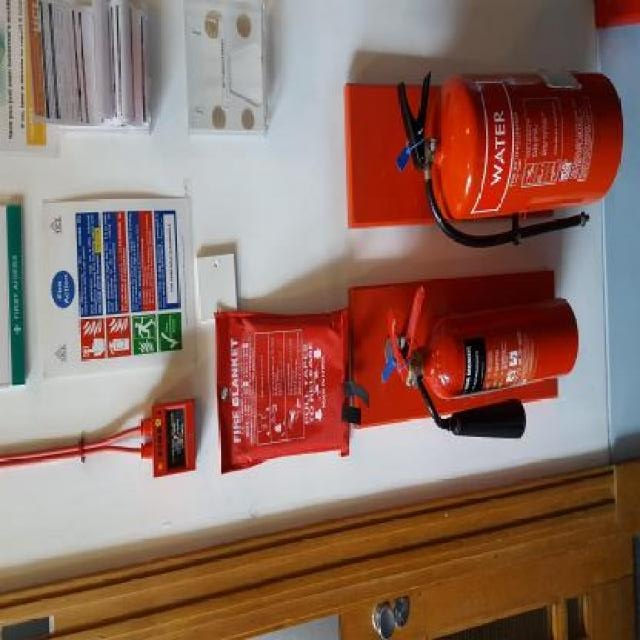fire extinguisher: (398, 71, 624, 249), (387, 285, 581, 439)
